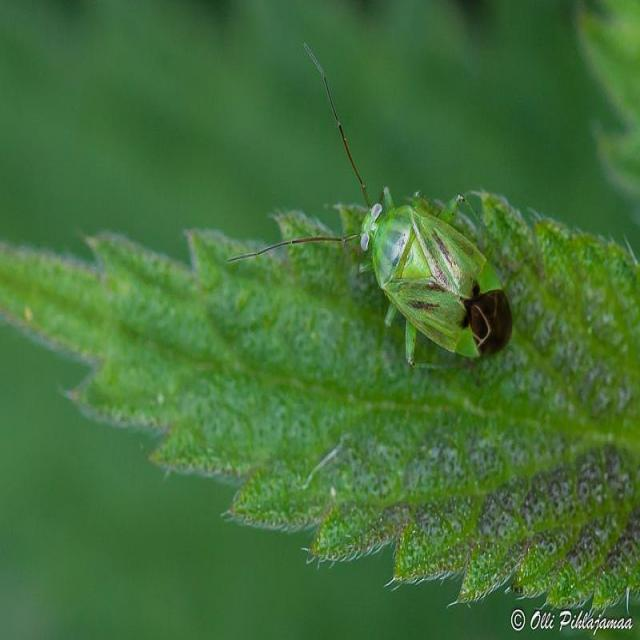Miridae-Adult-: (253, 45, 515, 378)
